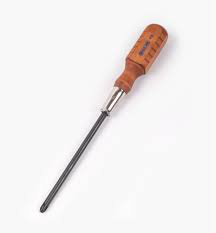screwdriver: (24, 21, 179, 233)
